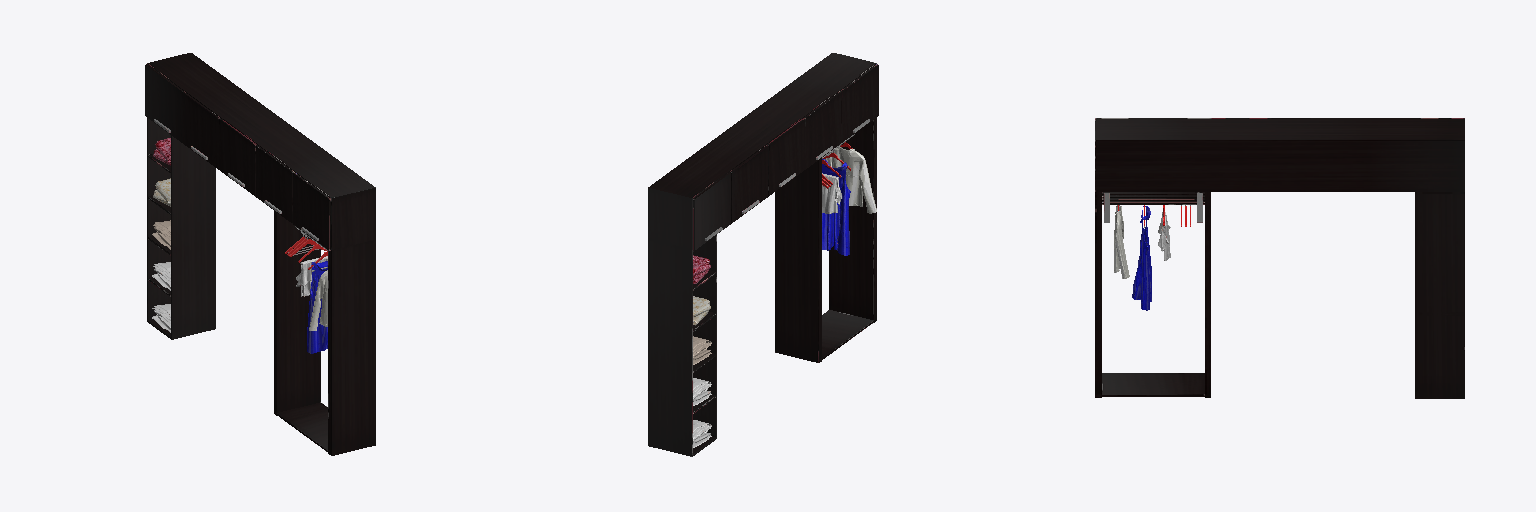
3 renders of one model, left to right at view 1: azimuth 30°, elevation 25°; view 2: azimuth 150°, elevation 25°; view 3: azimuth 270°, elevation 25°, orthographic.
Size of the model in its own units: 0.5719 by 2.51 by 3.25.
Materials: 1 (1 with a texture image).